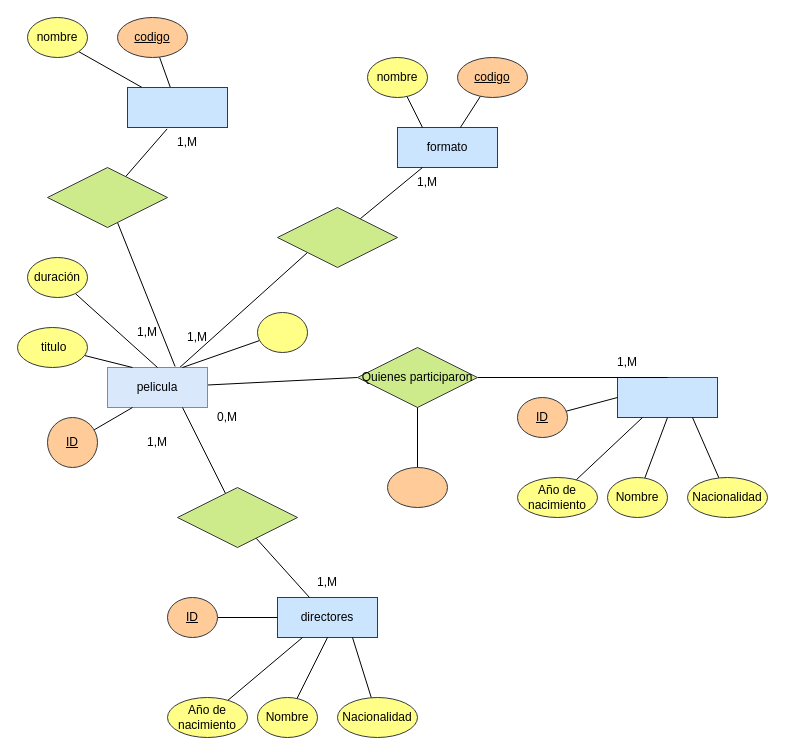
This 785x755 diagram has some shape labels left out. The centre of each missing label's shape, as x and y in pixels:
"actores" goes at point (667, 397).
"año" goes at point (282, 332).
"De que genero es" goes at point (107, 197).
"Formato de pelicula" goes at point (337, 237).
"genero" goes at point (177, 107).
"Personaje" goes at point (417, 487).
"quien dirigio la pelicula" goes at point (237, 517).
